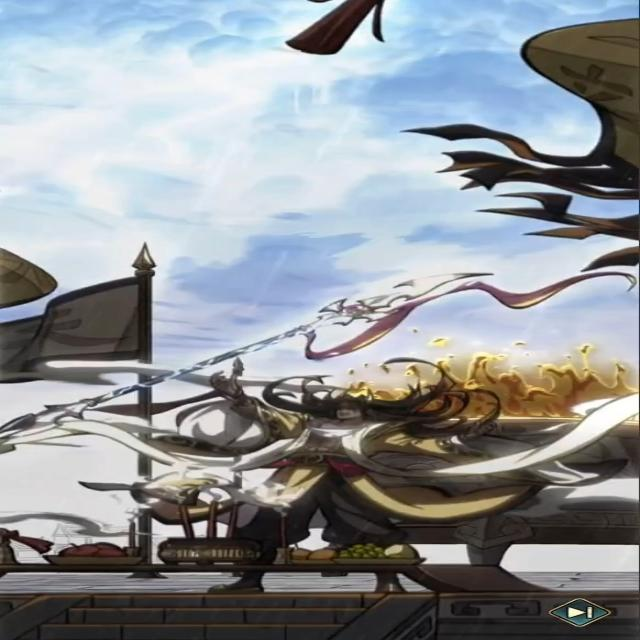system-skip: (546, 596, 616, 628)
